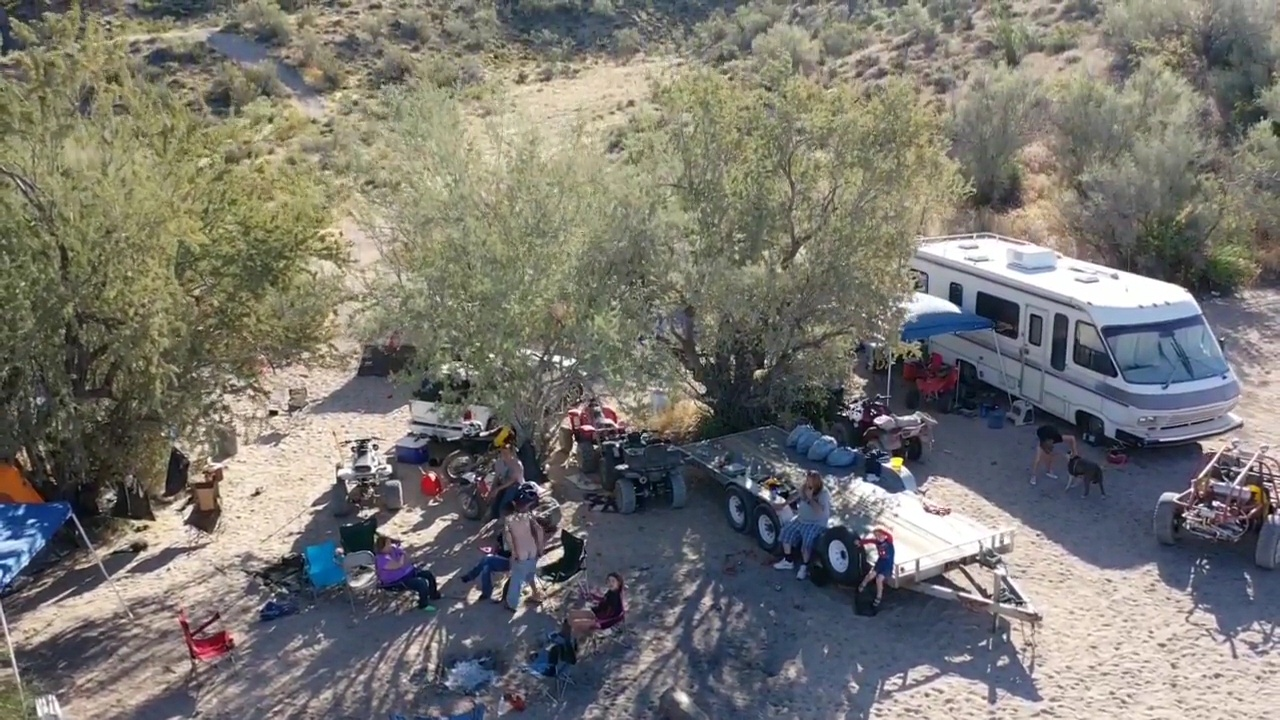insan: (775, 465, 833, 580), (569, 570, 633, 664), (374, 533, 440, 616), (501, 495, 543, 614), (1025, 422, 1081, 489), (853, 525, 898, 608)
otobus: (867, 229, 1251, 448)
